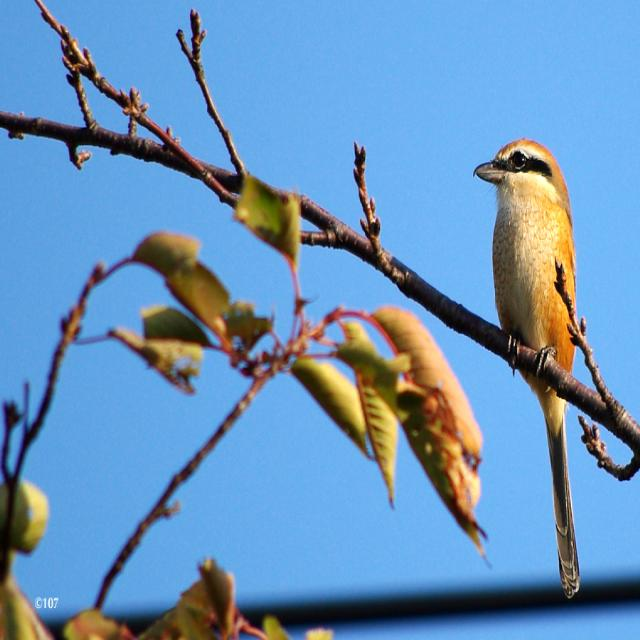bird: (472, 120, 588, 498)
